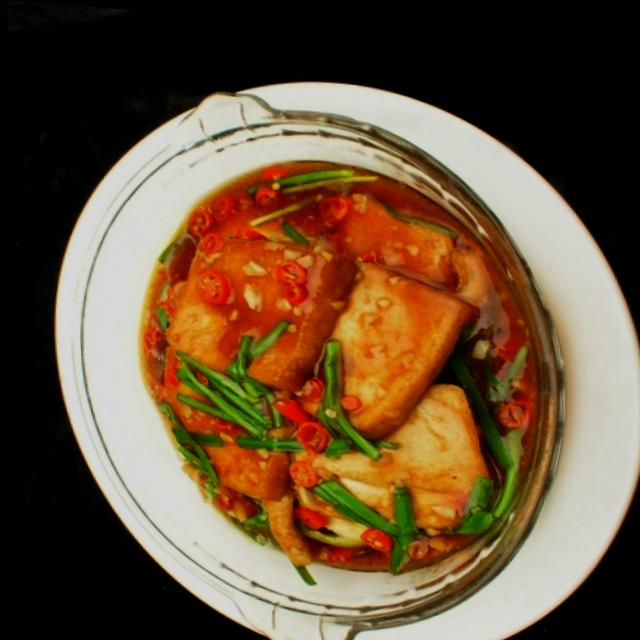豆腐料理: (12, 55, 640, 640)
